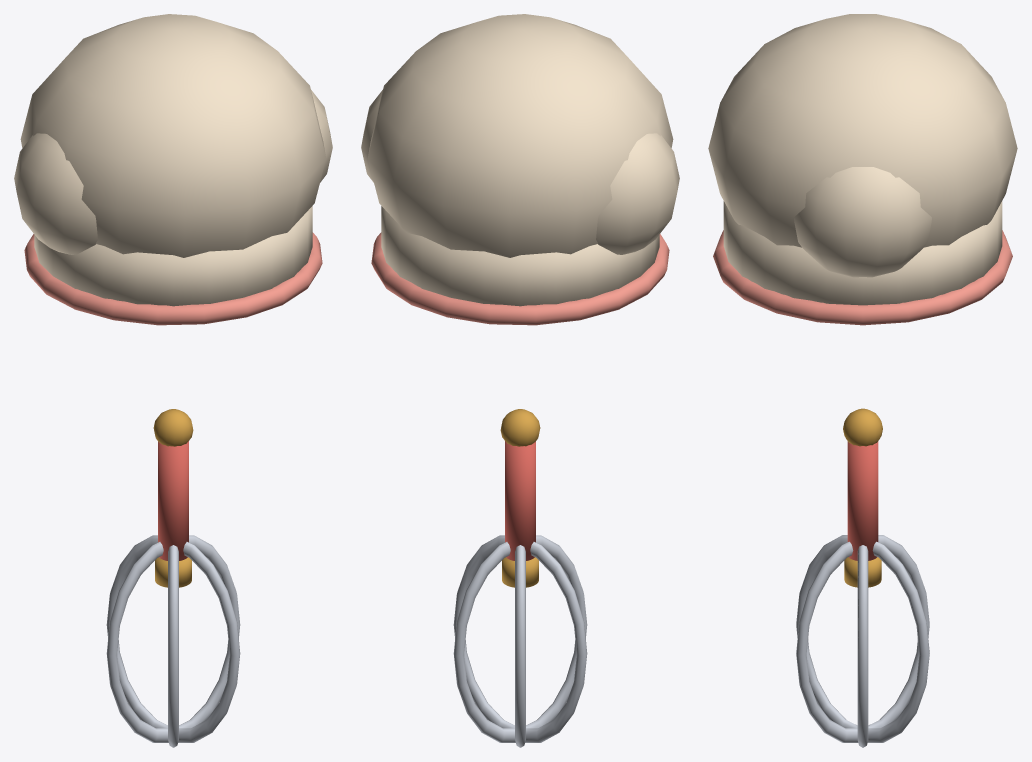
The model's file is opera_pastry_chef_outfit.glb.
3 views of the same model, side by side, from view 1: azimuth 30°, elevation 25°; view 2: azimuth 150°, elevation 25°; view 3: azimuth 270°, elevation 25° (orthographic).
Visible parts, largest first — view 1: ToquePuff, ToqueBand, PuffLobeL, ToqueTrim, Loop0, Loop2, Handle, Loop1, HandleCap, Ferrule, PuffLobeR; view 2: ToquePuff, ToqueBand, PuffLobeL, ToqueTrim, Loop0, Loop1, Handle, Loop2, HandleCap, Ferrule, PuffLobeR; view 3: ToquePuff, ToqueBand, PuffLobeR, ToqueTrim, Loop1, Loop2, Handle, Loop0, HandleCap, Ferrule.
Boxes of the visible parts, box(x1,y1,x2,y2) form: ToquePuff: box(20, 14, 326, 257); ToqueBand: box(34, 206, 312, 306); PuffLobeL: box(14, 133, 97, 254); ToqueTrim: box(24, 232, 322, 325); Loop0: box(106, 535, 240, 742); Loop2: box(106, 535, 240, 742); Handle: box(158, 441, 188, 560); Loop1: box(168, 545, 178, 747); HandleCap: box(153, 409, 193, 446); Ferrule: box(155, 557, 191, 587); PuffLobeR: box(311, 90, 332, 182); ToquePuff: box(367, 14, 673, 257); ToqueBand: box(381, 206, 659, 306); PuffLobeL: box(596, 133, 679, 254); ToqueTrim: box(371, 232, 669, 325); Loop0: box(453, 535, 587, 742); Loop1: box(453, 535, 587, 742); Handle: box(505, 441, 535, 560); Loop2: box(515, 545, 525, 747); HandleCap: box(500, 409, 540, 446); Ferrule: box(502, 557, 538, 587); PuffLobeR: box(361, 90, 382, 182); ToquePuff: box(708, 14, 1017, 247); ToqueBand: box(723, 201, 1002, 305); PuffLobeR: box(794, 167, 931, 277); ToqueTrim: box(713, 230, 1012, 325); Loop1: box(796, 535, 929, 742); Loop2: box(796, 535, 929, 742); Handle: box(847, 441, 878, 560); Loop0: box(857, 545, 868, 747); HandleCap: box(843, 408, 882, 446); Ferrule: box(844, 557, 881, 587).
Size of the model in its own units: 2.21 by 5.09 by 2.
